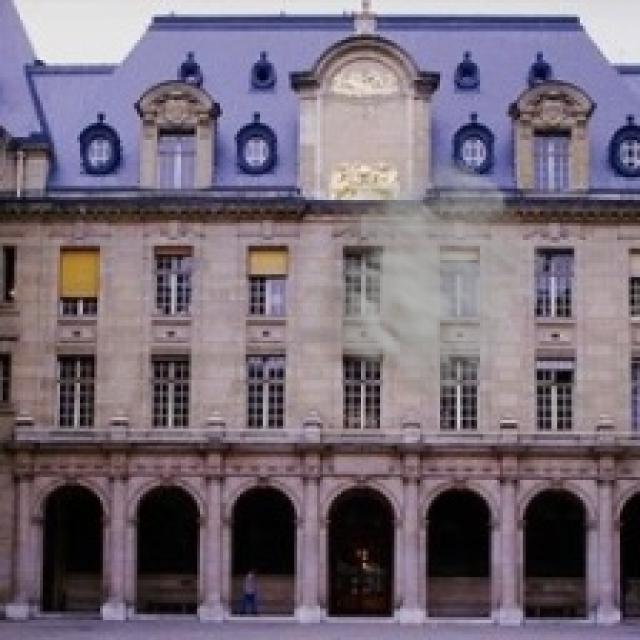Smoke: (286, 142, 554, 412)
